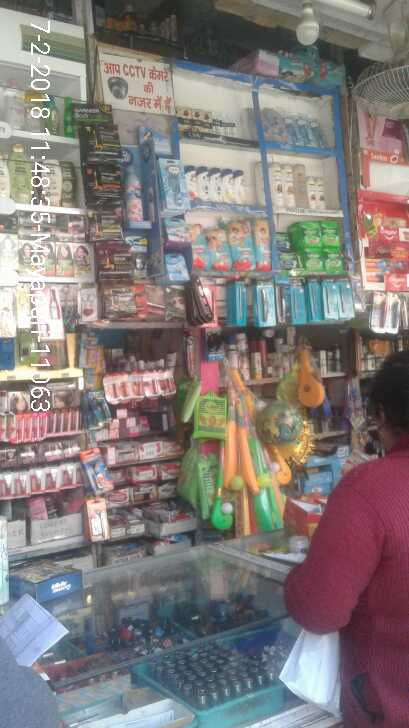ambipureVesus: (124, 145, 145, 225), (130, 238, 148, 271)
gillete: (78, 328, 101, 367), (94, 390, 110, 420), (83, 390, 91, 426)
venus: (163, 160, 183, 209), (165, 253, 187, 285), (266, 109, 287, 142), (164, 218, 186, 244), (298, 118, 312, 146), (312, 121, 325, 146), (287, 118, 298, 142)
